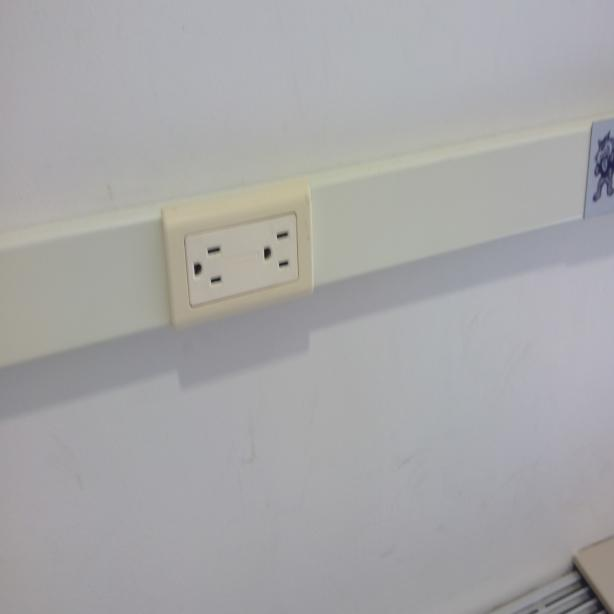typeb: (188, 234, 232, 294), (254, 221, 295, 278)
